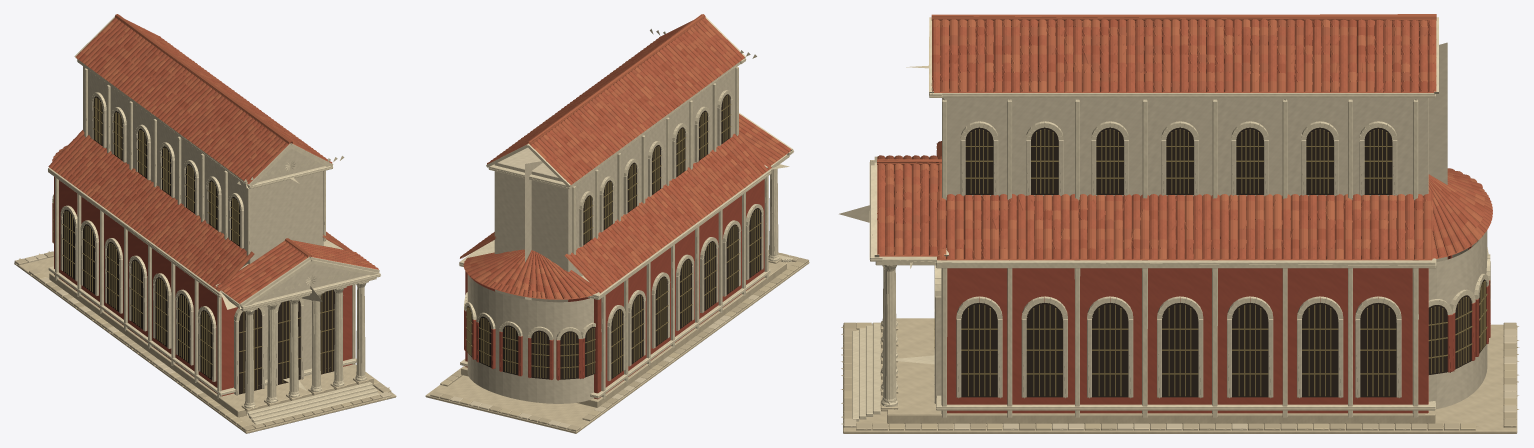
File: basilika.glb
3 views of the same model, side by side, from view 1: azimuth 30°, elevation 25°; view 2: azimuth 150°, elevation 25°; view 3: azimuth 270°, elevation 25° (orthographic). The views are drawn at different scales.
Parts seen in each view (by area): view 1: Limestone_trim.001, Limewash.001, Tile_0.001, Interior_shadow.001, Bronze.001, Pompeian_red.001, Tile_1.001, Travertine.001, Tile_5.001, Limestone_trim.002, Tile_2.001, Tile_4.001 (+9 smaller); view 2: Limewash.001, Tile_0.001, Limestone_trim.001, Interior_shadow.001, Bronze.001, Pompeian_red.001, Tile_1.001, Travertine.001, Tile_5.001, Limewash.002, Tile_2.001, Tile_4.001 (+11 smaller); view 3: Limewash.001, Tile_0.001, Interior_shadow.001, Pompeian_red.001, Limestone_trim.001, Tile_1.001, Travertine.001, Bronze.001, Tile_5.001, Tile_2.001, Tile_3.001, Tile_4.001 (+14 smaller).
Part boxes in pixels (left/top/right/bottom): Limestone_trim.001: left=48, top=16, right=380, bottom=424; Limewash.001: left=60, top=66, right=367, bottom=395; Tile_0.001: left=48, top=17, right=378, bottom=303; Interior_shadow.001: left=63, top=96, right=334, bottom=394; Bronze.001: left=53, top=97, right=334, bottom=392; Pompeian_red.001: left=52, top=176, right=352, bottom=396; Tile_1.001: left=55, top=14, right=375, bottom=288; Travertine.001: left=14, top=257, right=396, bottom=433; Tile_5.001: left=53, top=27, right=372, bottom=299; Limestone_trim.002: left=63, top=68, right=380, bottom=421; Tile_2.001: left=52, top=22, right=360, bottom=303; Tile_4.001: left=67, top=19, right=360, bottom=299; Limewash.001: left=467, top=68, right=787, bottom=403; Tile_0.001: left=463, top=18, right=791, bottom=298; Limestone_trim.001: left=459, top=17, right=793, bottom=398; Interior_shadow.001: left=466, top=94, right=761, bottom=379; Bronze.001: left=465, top=95, right=761, bottom=378; Pompeian_red.001: left=464, top=179, right=764, bottom=399; Tile_1.001: left=460, top=14, right=769, bottom=297; Travertine.001: left=425, top=257, right=809, bottom=433; Tile_5.001: left=464, top=22, right=785, bottom=298; Limewash.002: left=467, top=107, right=763, bottom=403; Tile_2.001: left=462, top=22, right=790, bottom=299; Tile_4.001: left=470, top=27, right=785, bottom=293; Limewash.001: left=882, top=98, right=1487, bottom=409; Tile_0.001: left=877, top=19, right=1492, bottom=259; Interior_shadow.001: left=961, top=127, right=1486, bottom=397; Pompeian_red.001: left=947, top=246, right=1490, bottom=413; Limestone_trim.001: left=852, top=17, right=1490, bottom=421; Tile_1.001: left=877, top=14, right=1492, bottom=259; Travertine.001: left=843, top=318, right=1517, bottom=433; Bronze.001: left=934, top=129, right=1490, bottom=396; Tile_5.001: left=877, top=19, right=1488, bottom=259; Tile_2.001: left=877, top=19, right=1491, bottom=260; Tile_3.001: left=877, top=19, right=1484, bottom=259; Tile_4.001: left=877, top=19, right=1492, bottom=258.
Size of the model in its own units: 11.03 by 17.54 by 29.2.
Materials: 16 (5 with a texture image).
